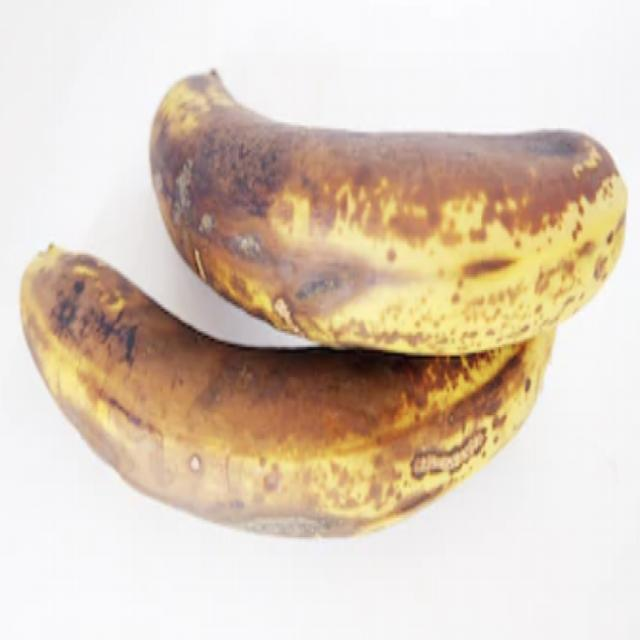rotten-banana: (17, 238, 558, 537), (152, 68, 630, 351)
